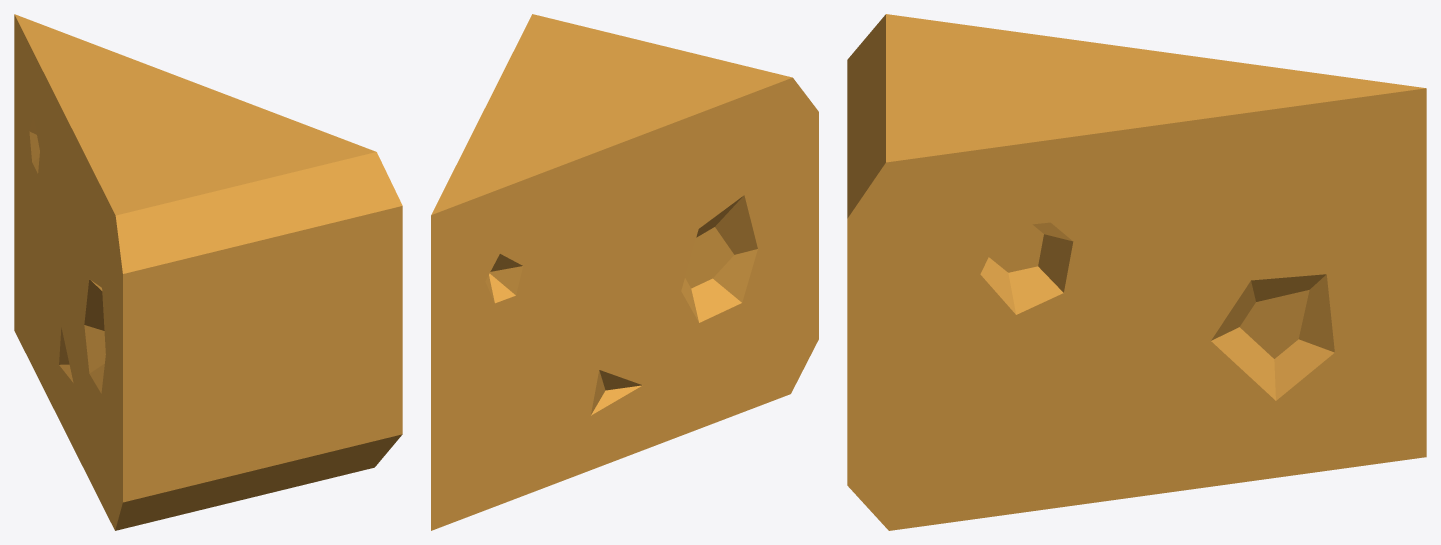
Rendered from food-cheese-slice.glb.
3 views of the same model, side by side, from view 1: azimuth 30°, elevation 25°; view 2: azimuth 150°, elevation 25°; view 3: azimuth 270°, elevation 25° (orthographic). The views are drawn at different scales.
Visible parts, largest first — view 1: cheese-slice; view 2: cheese-slice; view 3: cheese-slice.
Boxes of the visible parts, left/top/right/bottom form: cheese-slice: left=14, top=14, right=402, bottom=530; cheese-slice: left=431, top=14, right=818, bottom=530; cheese-slice: left=847, top=14, right=1426, bottom=530.
Size of the model in its own units: 0.1236 by 0.1336 by 0.1902.
